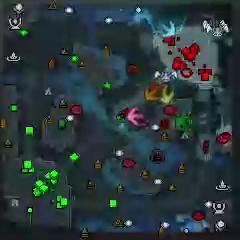x1: (128, 107, 144, 125)
x2: (159, 85, 175, 104)
x3: (161, 20, 176, 38)
x4: (175, 116, 191, 132)
x5: (144, 85, 162, 102)
